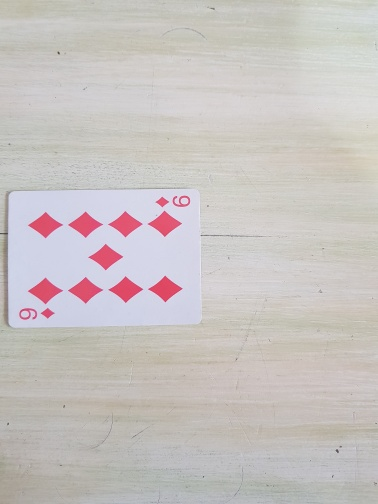nine: (6, 187, 203, 330)
